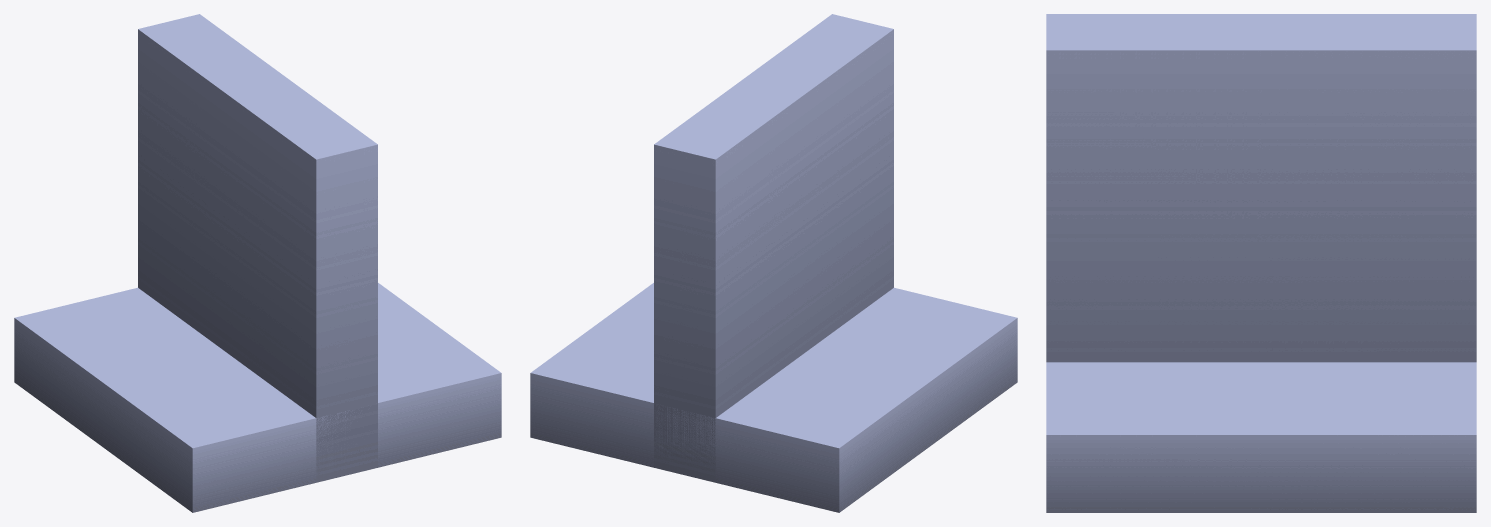
File: wall.glb
3 renders of one model, left to right at view 1: azimuth 30°, elevation 25°; view 2: azimuth 150°, elevation 25°; view 3: azimuth 270°, elevation 25°, orthographic. The views are drawn at different scales.
Visible parts, largest first — view 1: wall; view 2: wall; view 3: wall.
Part boxes in pixels (x1,y1,x2,y2): wall: (14,14,501,512); wall: (530,14,1017,512); wall: (1046,14,1476,512).
Bounding box in the file's own units: 1 × 1 × 1.
Materials: 2 (2 with a texture image).
